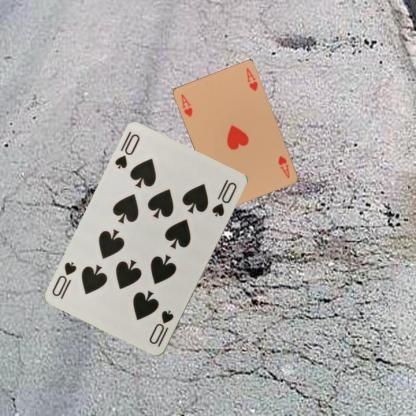10s: (146, 308, 176, 349), (112, 132, 142, 171)
Ah: (276, 153, 291, 180), (179, 92, 194, 118)
